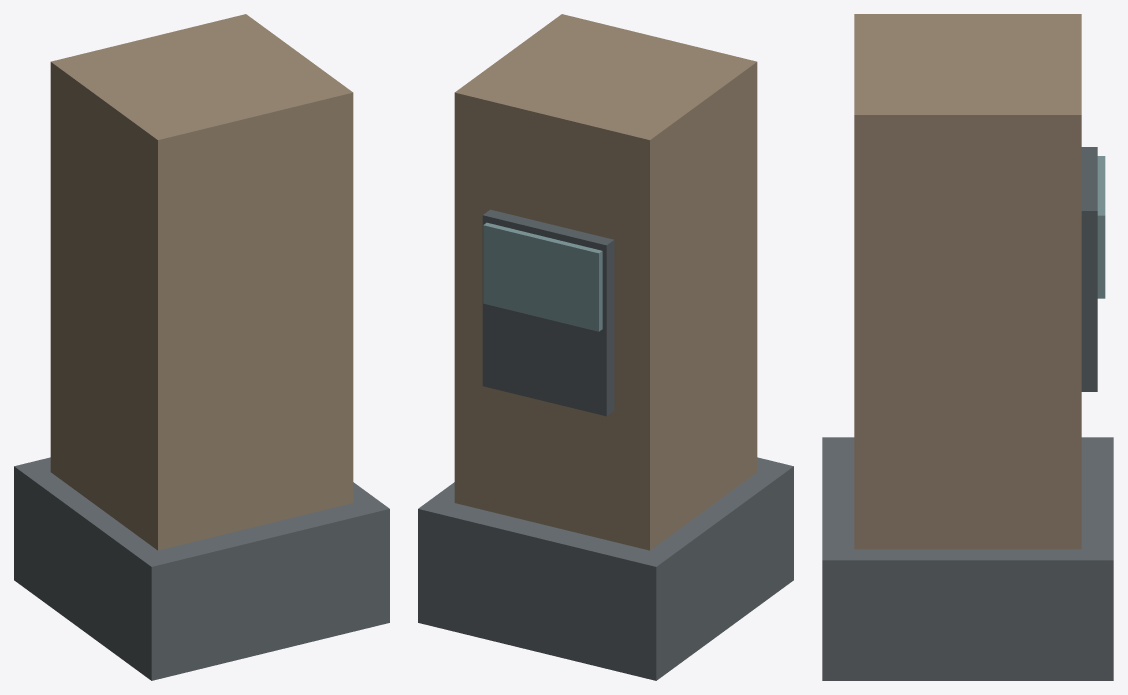
The model's file is iz3_health_oxygen_02.glb.
3 views of the same model, side by side, from view 1: azimuth 30°, elevation 25°; view 2: azimuth 150°, elevation 25°; view 3: azimuth 270°, elevation 25° (orthographic). The views are drawn at different scales.
Parts seen in each view (by area): view 1: cabinet, base; view 2: cabinet, base, panel, display; view 3: cabinet, base, panel, display.
Part boxes in pixels (x1=…): cabinet: x1=50, y1=14, x2=353, y2=550; base: x1=14, y1=457, x2=389, y2=680; cabinet: x1=454, y1=14, x2=757, y2=550; base: x1=418, y1=457, x2=793, y2=680; panel: x1=482, y1=209, x2=614, y2=416; display: x1=483, y1=222, x2=602, y2=331; cabinet: x1=854, y1=14, x2=1081, y2=549; base: x1=822, y1=437, x2=1113, y2=680; panel: x1=1081, y1=147, x2=1097, y2=391; display: x1=1097, y1=156, x2=1105, y2=298.
Size of the model in its own units: 0.7 by 1.47 by 0.7.
